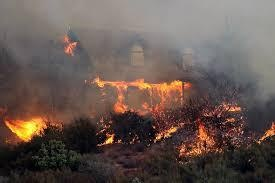fire: (0, 111, 56, 142), (61, 31, 80, 55)
